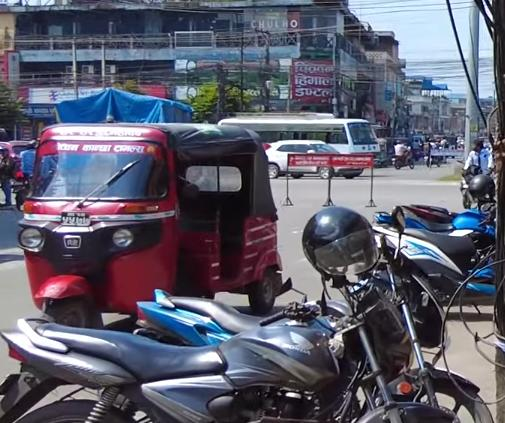auto_rickshaw: (13, 114, 291, 334)
bike: (0, 281, 464, 423)
